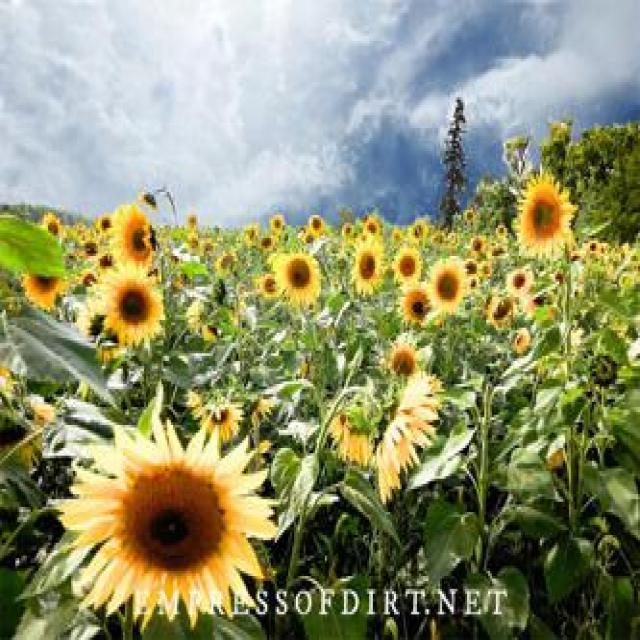sunflower: (49, 409, 279, 640), (504, 174, 576, 256), (94, 268, 162, 342), (103, 195, 158, 282), (264, 246, 326, 310), (421, 250, 469, 318), (350, 236, 386, 300), (265, 210, 292, 241)
